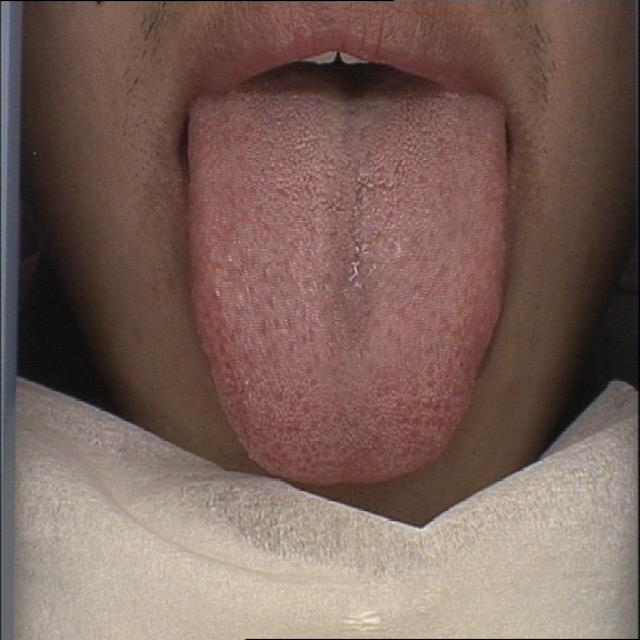tongue: (177, 76, 520, 493)
